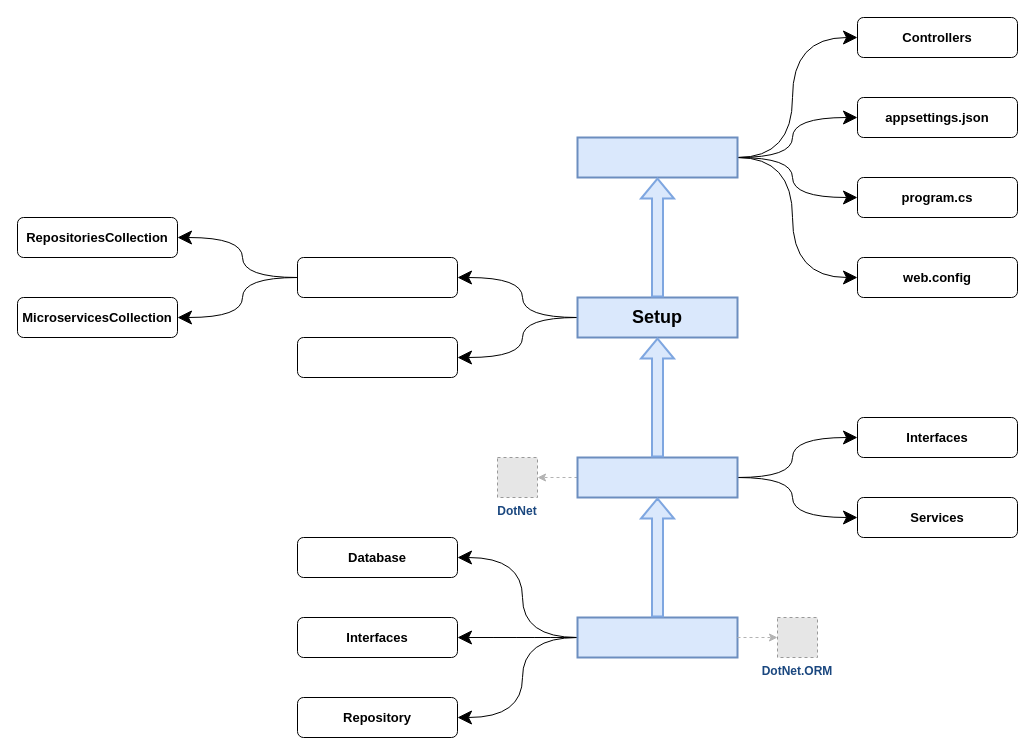
The diagram is 1035 pixels wide and 755 high, and some of its shapes have lost their labels. Grey dashed boxes stand in for pictures. The box of each missing label's shape, as (x1, y1, x2, y2) in pixels:
API: (576, 136, 738, 178)
DBConnection: (296, 336, 458, 378)
Microservices: (576, 456, 738, 498)
Repositories: (576, 616, 738, 658)
ServiceCollection: (296, 256, 458, 298)
